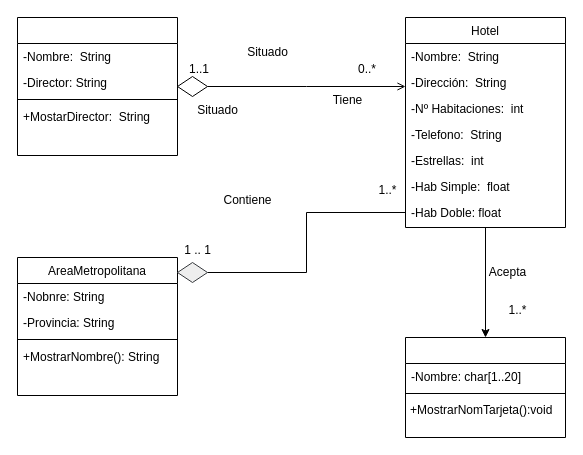
The diagram is 583 pixels wide and 455 high, and some of its shapes have lost their labels. Here are the shapes that lost their labels. From the top down, the box of each, then its label:
(16, 16, 178, 156): CadenaHotel
(404, 336, 566, 438): TarjetaCredito
